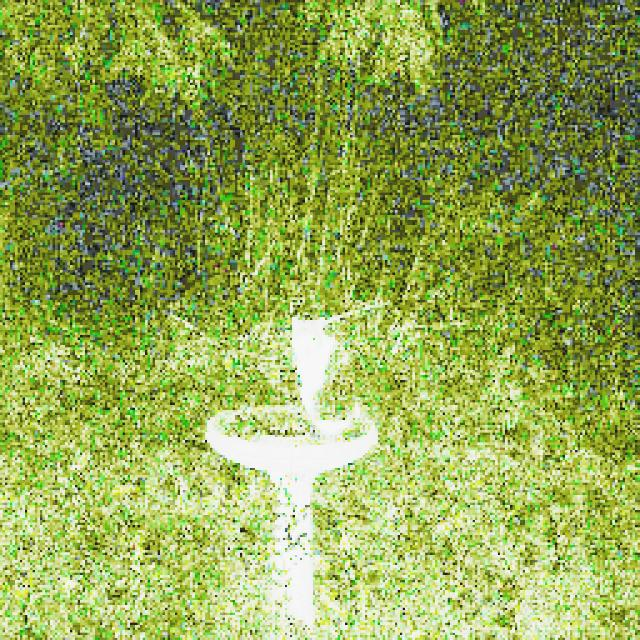cat: (263, 301, 394, 457)
